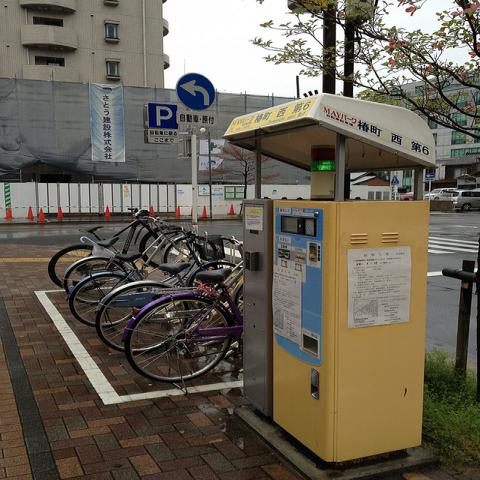car: (445, 190, 479, 212), (422, 188, 457, 202), (392, 192, 415, 200)
